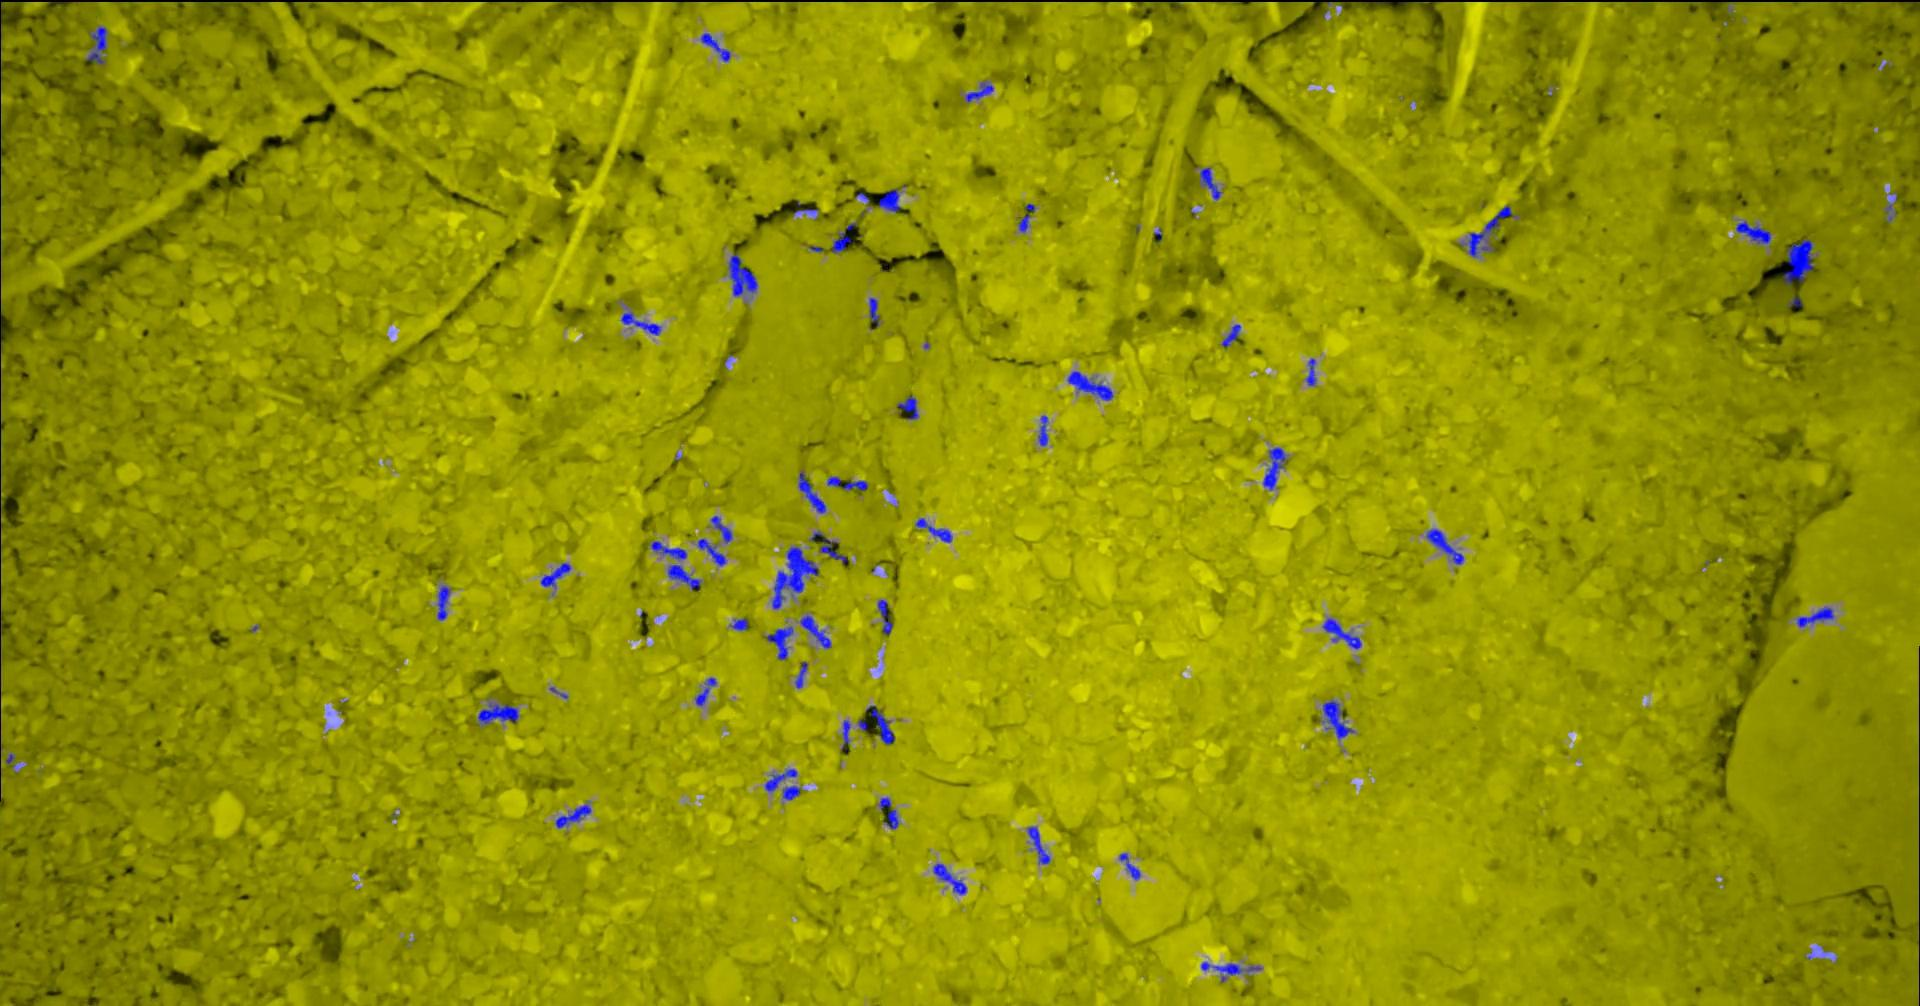ant: (1469, 205, 1517, 257), (1069, 370, 1114, 400), (1427, 528, 1465, 564), (1785, 239, 1815, 285), (730, 253, 759, 296), (811, 531, 850, 563), (799, 471, 827, 513), (1324, 617, 1363, 648), (1324, 700, 1355, 738), (867, 705, 897, 744), (1203, 962, 1262, 981), (935, 862, 968, 894), (1263, 447, 1288, 489), (801, 615, 832, 648), (917, 517, 952, 542), (622, 312, 662, 335), (768, 626, 795, 659), (669, 564, 703, 589), (557, 801, 592, 827), (479, 702, 521, 723), (1029, 826, 1051, 862), (702, 33, 731, 61), (1737, 220, 1771, 243), (698, 539, 728, 565), (88, 25, 108, 64), (1798, 607, 1835, 627), (542, 561, 571, 587), (766, 768, 797, 791), (1201, 166, 1223, 199), (651, 540, 688, 559), (696, 677, 717, 706), (712, 514, 734, 542), (828, 476, 869, 490), (1121, 852, 1142, 879), (968, 83, 996, 102), (879, 600, 894, 634), (1020, 203, 1037, 231), (898, 396, 919, 419), (880, 189, 902, 211), (833, 231, 853, 253), (1223, 324, 1242, 345), (439, 586, 451, 620), (796, 661, 809, 688), (842, 719, 852, 751), (871, 297, 881, 326), (1039, 415, 1049, 445), (885, 809, 900, 828), (1307, 358, 1317, 385), (783, 785, 803, 799), (731, 619, 749, 630)
